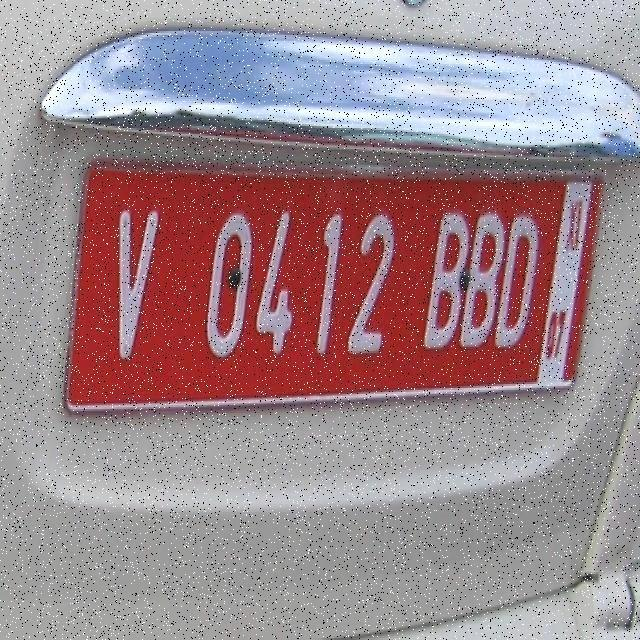LicensePlate: (35, 124, 620, 460)
